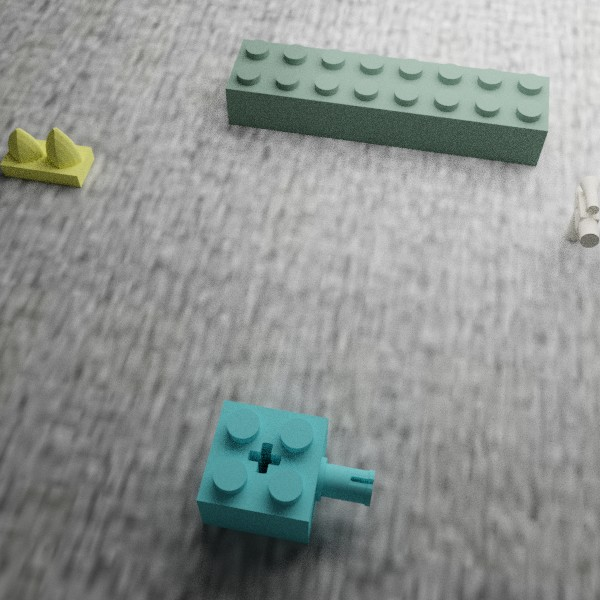lego: (225, 38, 549, 166), (196, 399, 375, 544), (0, 127, 94, 187), (564, 175, 600, 248)
